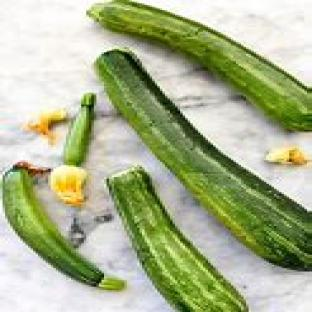Zucchini: (97, 49, 311, 269), (107, 167, 248, 311), (3, 166, 124, 290), (64, 93, 96, 165)
